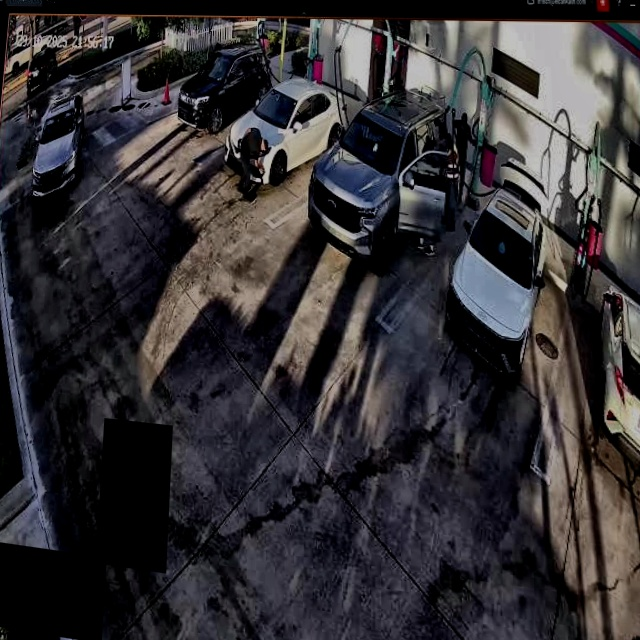Car: (304, 86, 449, 282), (439, 155, 554, 380), (223, 72, 348, 188)
